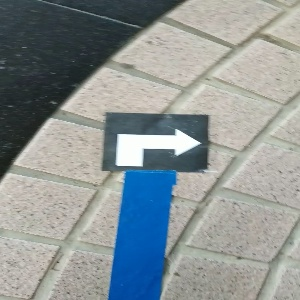right: (105, 112, 208, 173)
